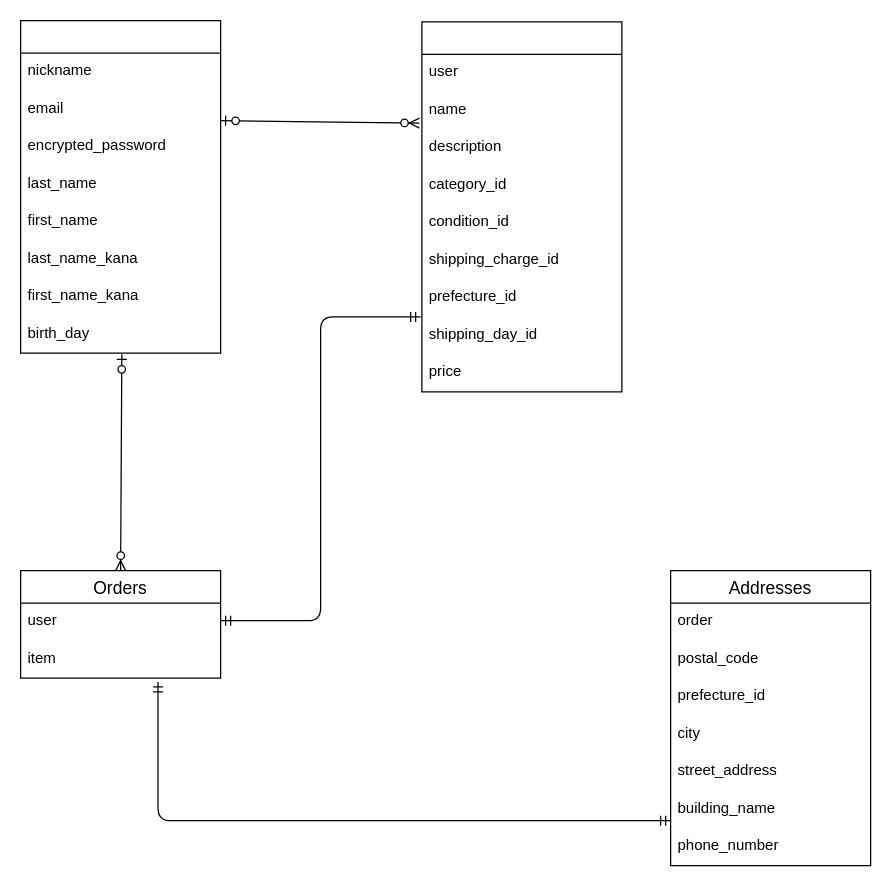
Image size: 891x886. Some labels were removed from this diagram. Here are the shapes that lost their labels. From the top down, the box of each, then its label:
(19, 19, 221, 353): Users
(421, 21, 622, 392): Items
